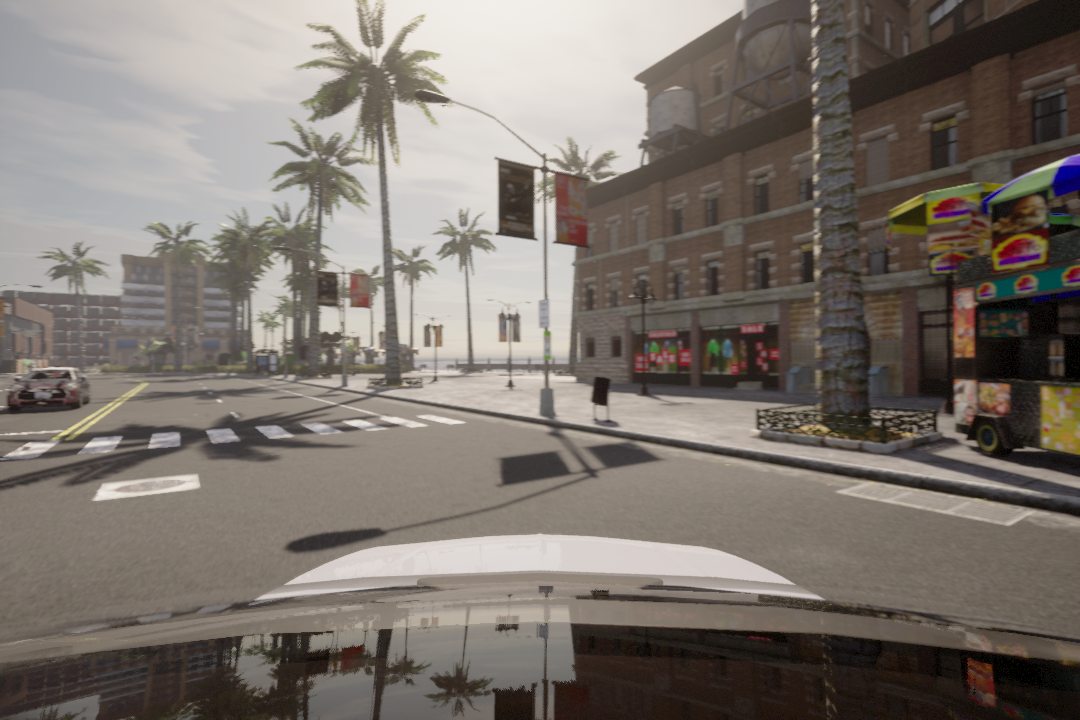walkside: (1, 401, 467, 468)
